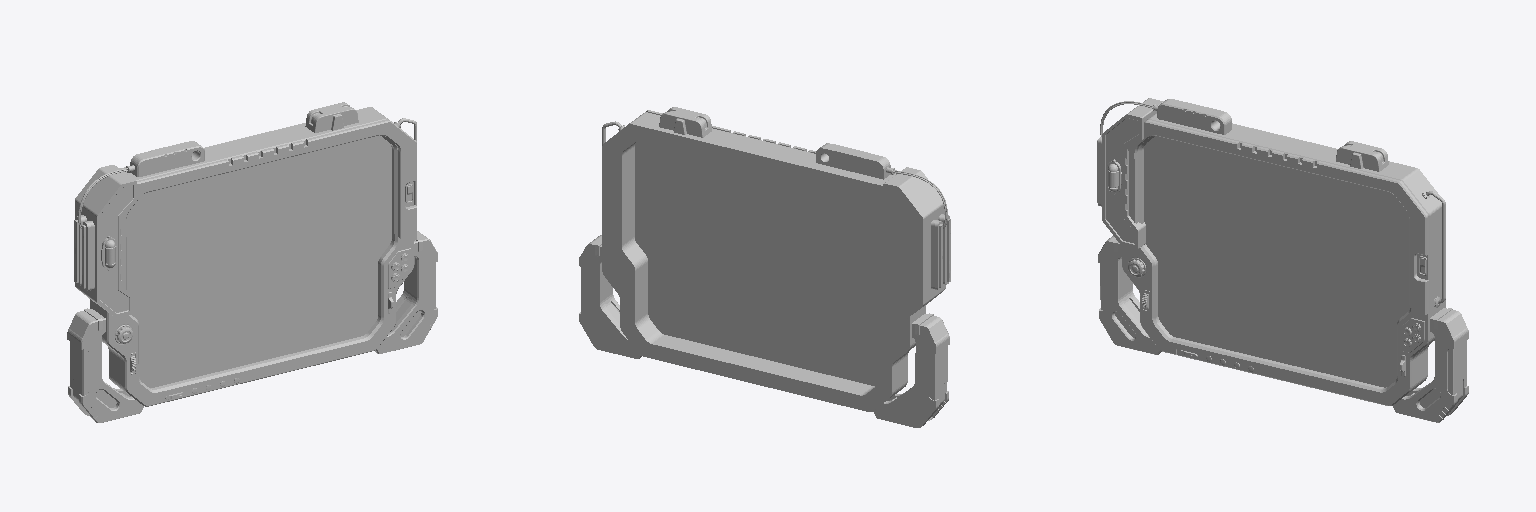
Rendered from panel_6_fix.obj.
3 renders of one model, left to right at view 1: azimuth 30°, elevation 25°; view 2: azimuth 150°, elevation 25°; view 3: azimuth 330°, elevation 25°, orthographic.
Parts seen in each view (by area): view 1: Display_Slice.007, Body_Cube.041; view 2: Display_Slice.007, Body_Cube.041; view 3: Display_Slice.007, Body_Cube.041.
Boxes of the visible parts, x1=… form: Display_Slice.007: x1=126, y1=135, x2=391, y2=387; Body_Cube.041: x1=67, y1=102, x2=437, y2=422; Display_Slice.007: x1=635, y1=141, x2=890, y2=385; Body_Cube.041: x1=579, y1=107, x2=950, y2=427; Display_Slice.007: x1=1144, y1=136, x2=1410, y2=387; Body_Cube.041: x1=1097, y1=98, x2=1468, y2=422.
Bounding box in the file's own units: 2.61 × 1.76 × 0.3283.